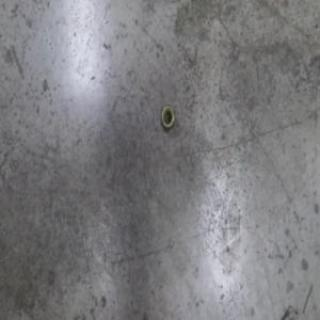Nuttrack_idkeyframe: (159, 102, 175, 131)
